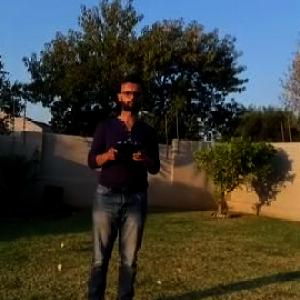follow: (85, 69, 171, 299)
